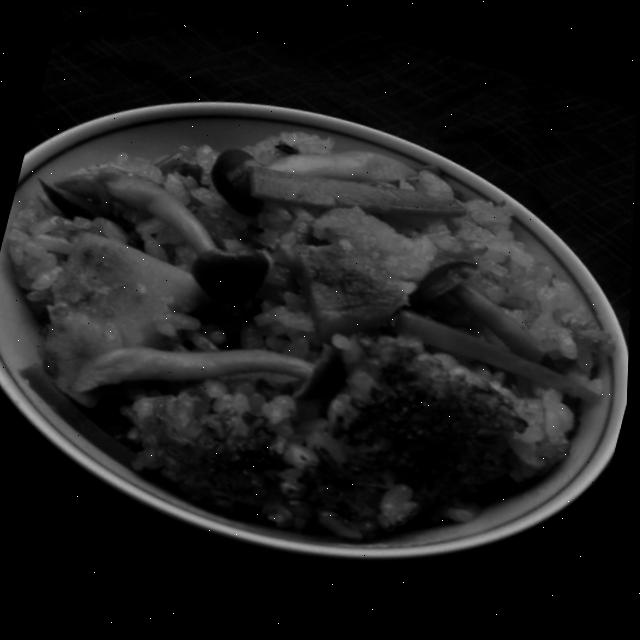米饭主食: (0, 44, 639, 595)
